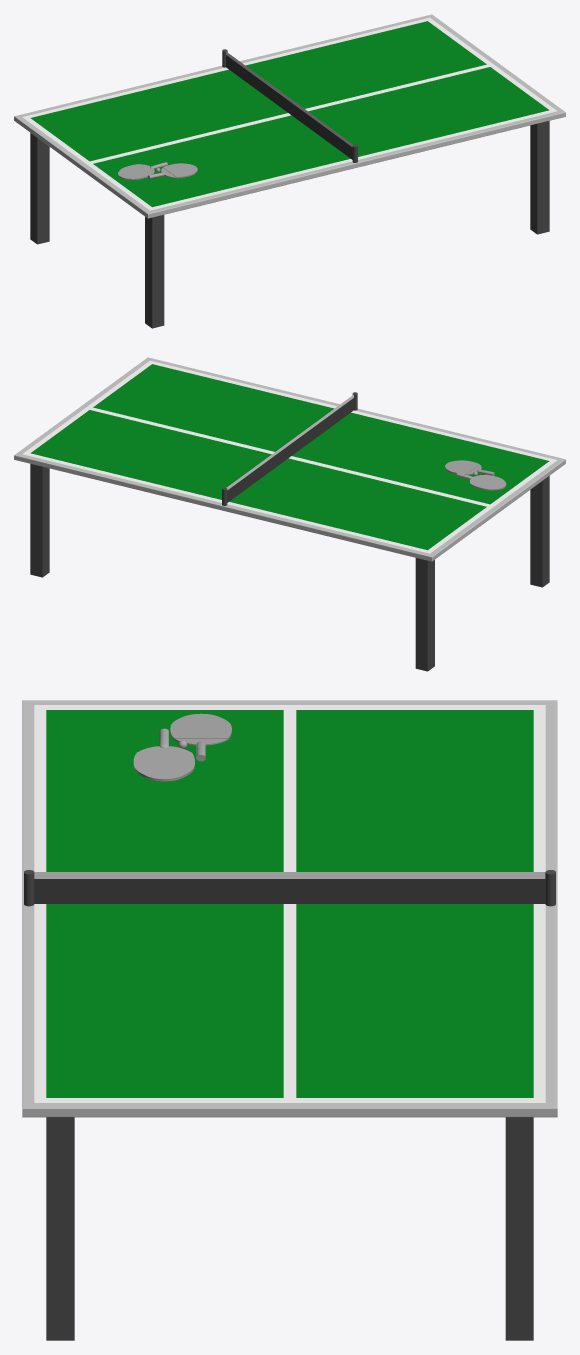
Rendered from table_tennis.fbx.
3 views of the same model, one above another, from view 1: azimuth 30°, elevation 25°; view 2: azimuth 150°, elevation 25°; view 3: azimuth 270°, elevation 25° (orthographic). The views are drawn at different scales.
Visible parts, largest first — view 1: Box001, Box005, Box004, Plane001, Box002; view 2: Box001, Box002, Box003, Plane001, Box005; view 3: Box001, Plane001, Box003, Box004, Line002, Line005.
Part boxes in pixels (x1,y1,x2,y2): Box001: (14, 14, 565, 218); Box005: (145, 215, 164, 328); Box004: (530, 121, 549, 234); Plane001: (226, 51, 353, 159); Box002: (30, 133, 49, 244); Box001: (14, 357, 565, 561); Box002: (415, 558, 434, 671); Box003: (30, 464, 49, 577); Plane001: (226, 394, 353, 502); Box005: (530, 476, 549, 587); Box001: (22, 700, 557, 1117); Plane001: (34, 872, 545, 903); Box003: (505, 1117, 533, 1340); Box004: (46, 1117, 74, 1340); Line002: (133, 752, 194, 779); Line005: (170, 713, 231, 738).
Size of the model in its own units: 274 by 85.99 by 152.
